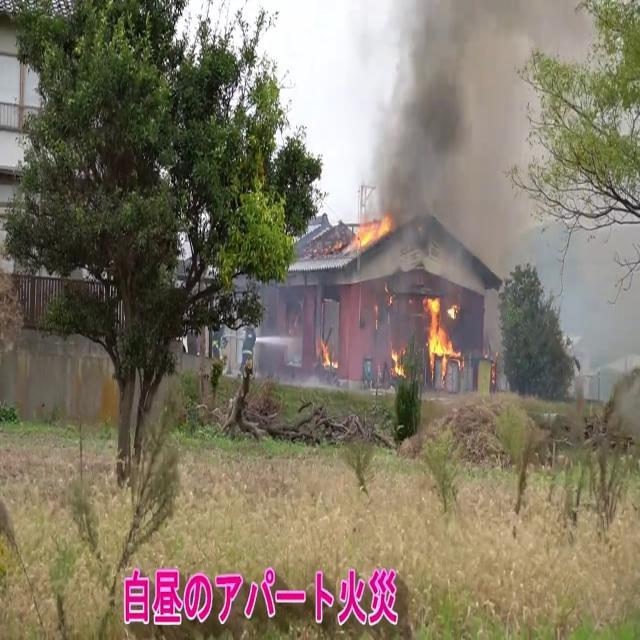Fire: (419, 288, 463, 372), (350, 210, 394, 255), (388, 342, 408, 380)
Smoke: (368, 0, 548, 287)
